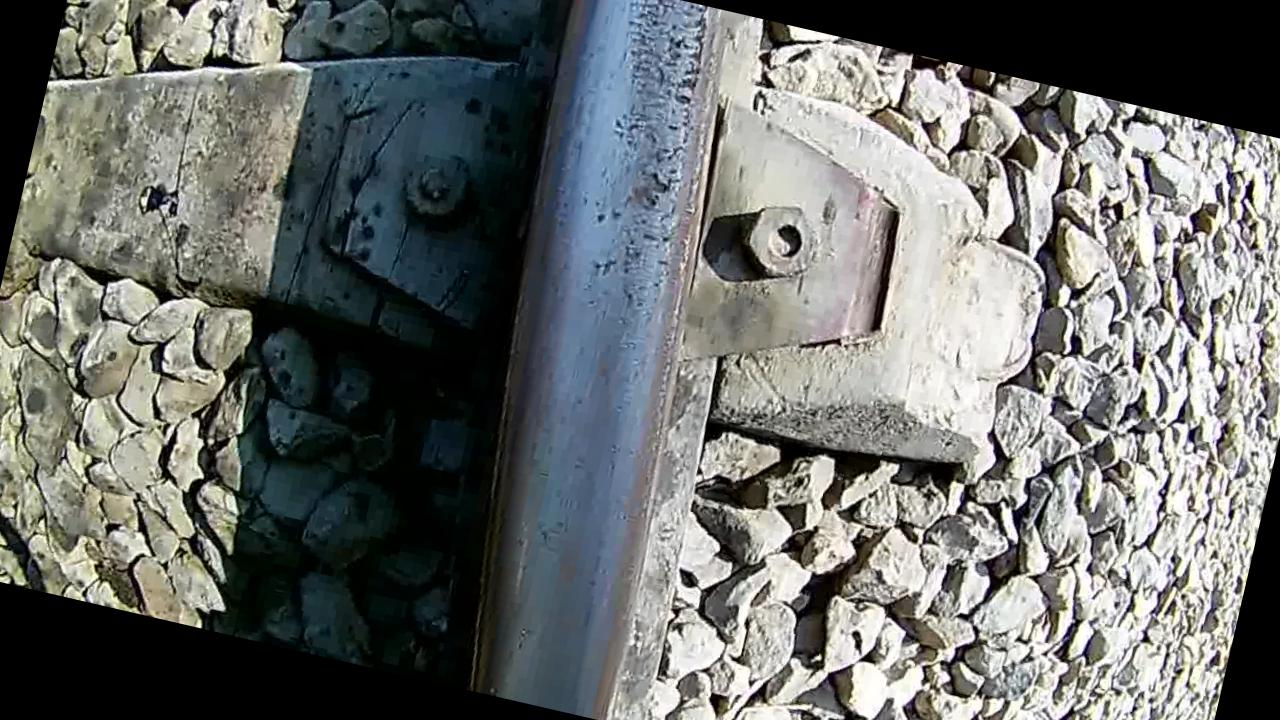crack: (430, 0, 751, 717)
